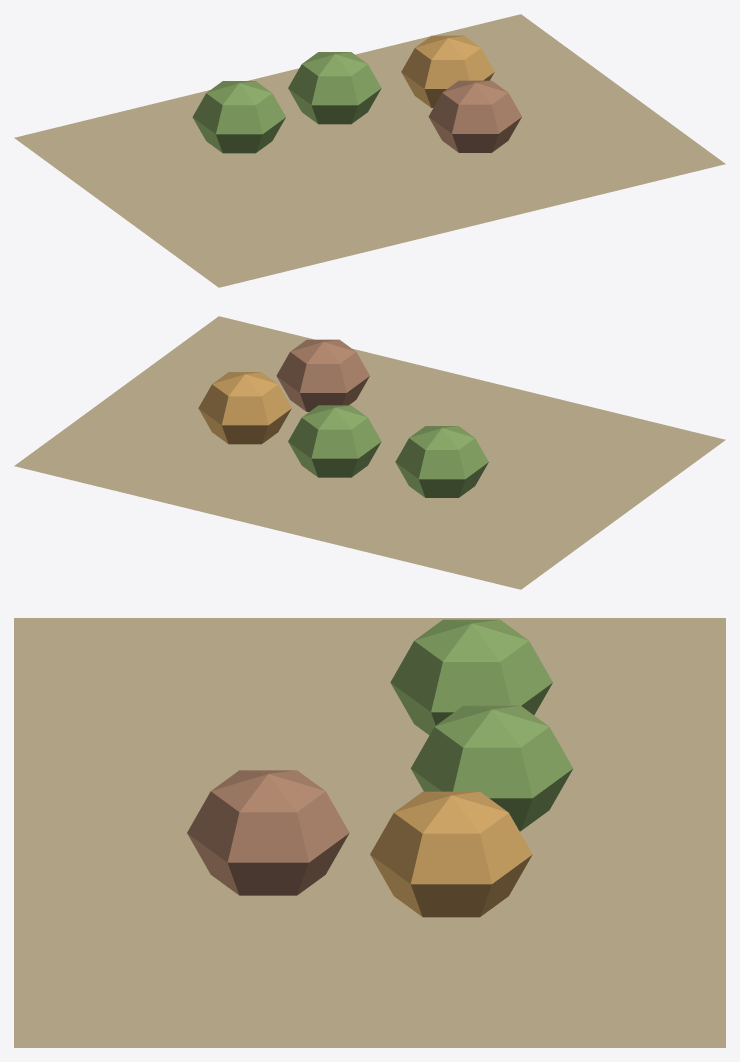
File: produce_mat.glb
3 renders of one model, top to bottom at view 1: azimuth 30°, elevation 25°; view 2: azimuth 150°, elevation 25°; view 3: azimuth 270°, elevation 25°, orthographic. The views are drawn at different scales.
Parts seen in each view (by area): view 1: produce_mat, mat_prod_2, mat_prod_1, mat_prod_0, mat_prod_3; view 2: produce_mat, mat_prod_2, mat_prod_3, mat_prod_0, mat_prod_1; view 3: produce_mat, mat_prod_3, mat_prod_1, mat_prod_2, mat_prod_0.
Part boxes in pixels (box(x1,y1,x2,y2)): produce_mat: box(14, 14, 725, 287); mat_prod_2: box(288, 52, 381, 124); mat_prod_1: box(428, 80, 521, 152); mat_prod_0: box(192, 81, 285, 153); mat_prod_3: box(401, 35, 494, 107); produce_mat: box(14, 316, 725, 589); mat_prod_2: box(288, 405, 381, 477); mat_prod_3: box(198, 372, 291, 444); mat_prod_0: box(395, 426, 488, 497); mat_prod_1: box(276, 339, 369, 411); produce_mat: box(14, 618, 725, 1047); mat_prod_3: box(370, 791, 532, 917); mat_prod_1: box(187, 770, 349, 895); mat_prod_2: box(411, 705, 573, 831); mat_prod_0: box(390, 619, 552, 735).
Bounding box in the file's own units: 1 × 0.134 × 0.7.
